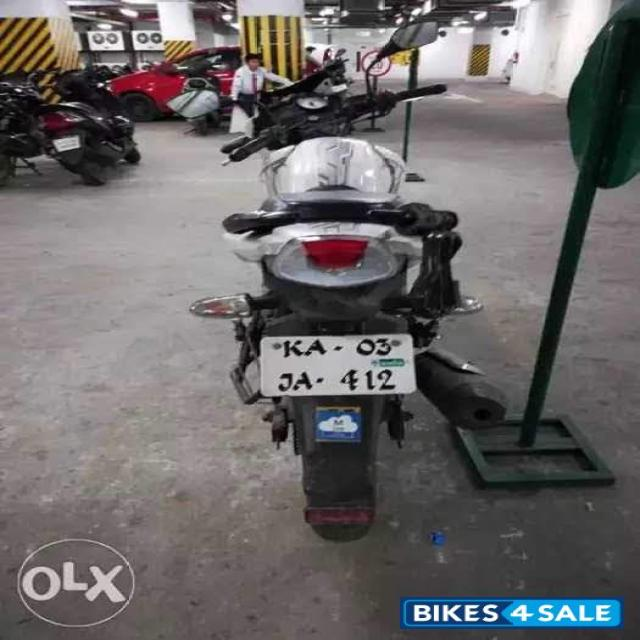license_plate: (257, 332, 417, 397)
